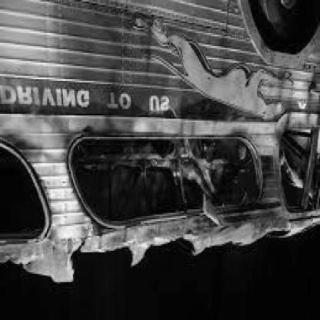Fire: (108, 136, 230, 212)
